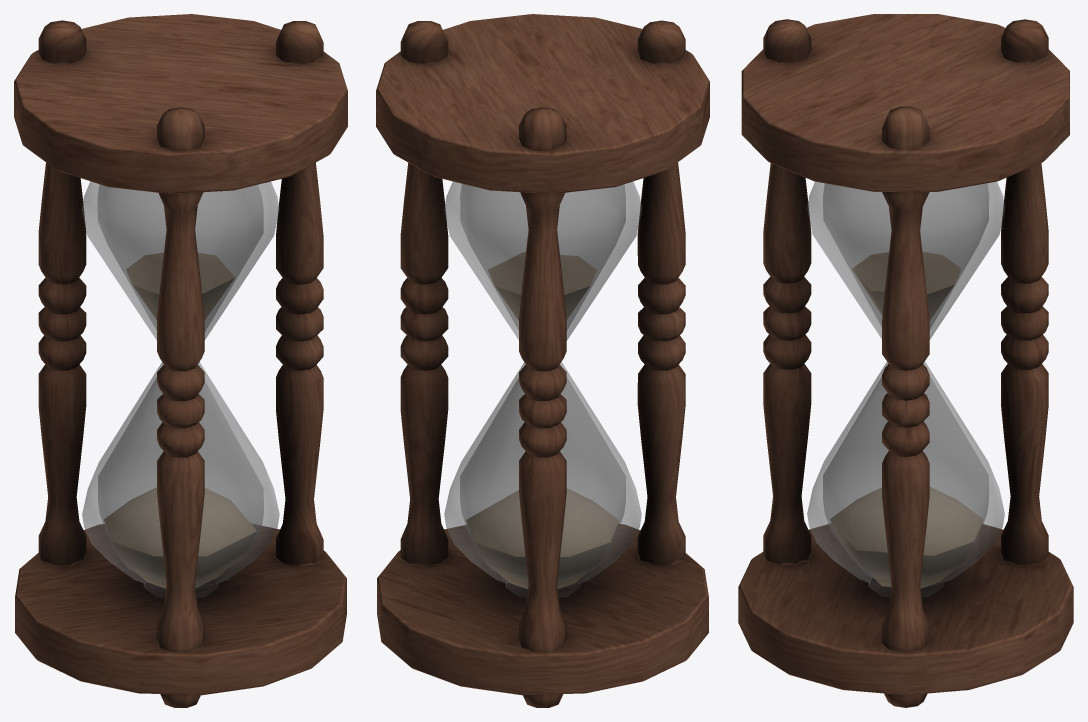
Rendered from Sand_Clock_01.fbx.
The picture shows the model from 3 angles, left to right: view 1: azimuth 30°, elevation 25°; view 2: azimuth 150°, elevation 25°; view 3: azimuth 270°, elevation 25°; orthographic projection.
Parts seen in each view (by area): view 1: Sand_Clock; view 2: Sand_Clock; view 3: Sand_Clock.
Part boxes in pixels (left/top/right/bottom): Sand_Clock: left=14, top=14, right=347, bottom=707; Sand_Clock: left=376, top=14, right=709, bottom=707; Sand_Clock: left=738, top=14, right=1073, bottom=707.
Size of the model in its own units: 8.69 by 17 by 8.69.
Materials: 2 (1 with a texture image).
